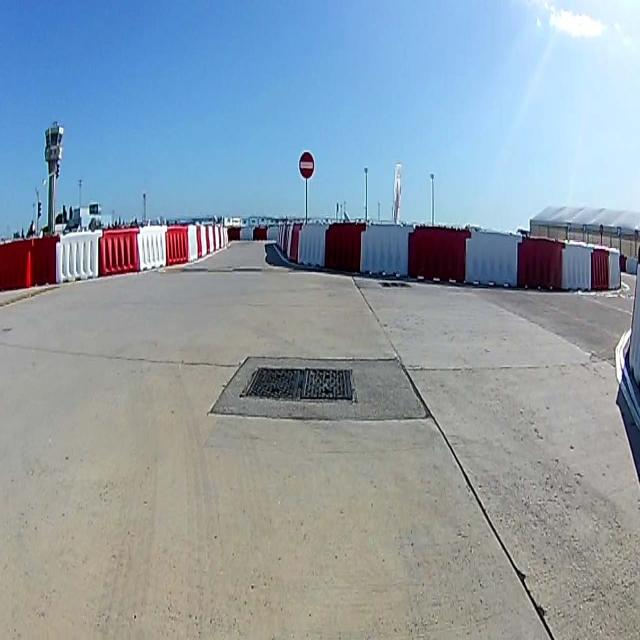girisyok: (298, 151, 314, 180)
